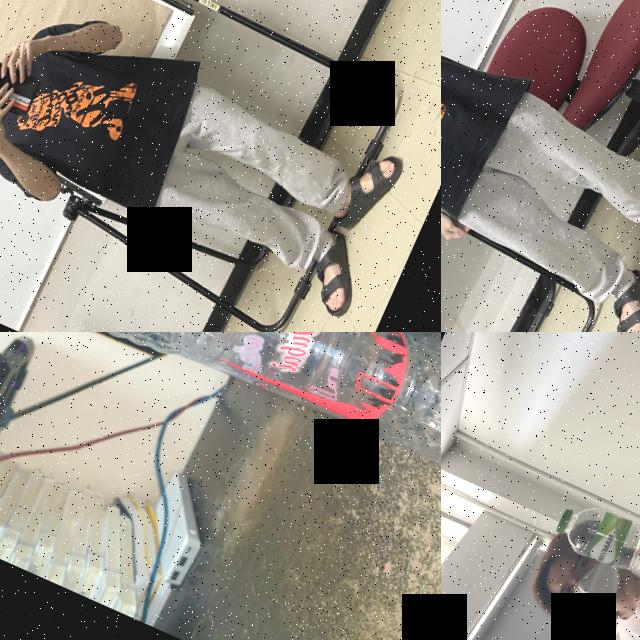bottle: (0, 332, 441, 507), (549, 491, 640, 597)
